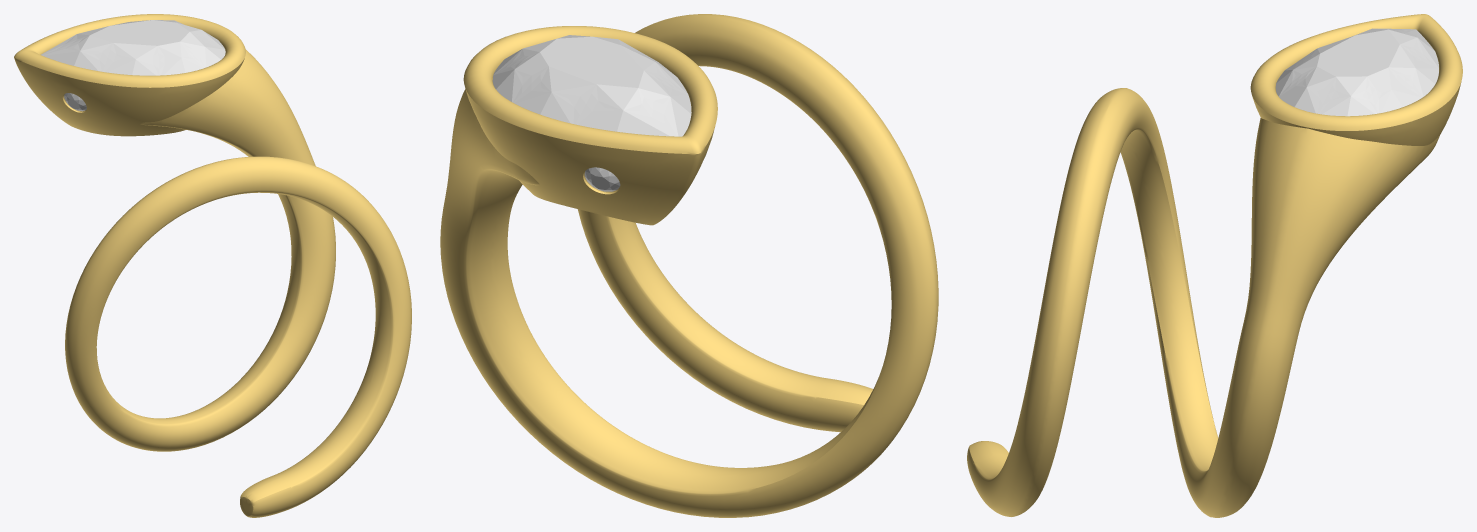
The model's file is OFHsnake.glb.
The picture shows the model from 3 angles, left to right: view 1: azimuth 30°, elevation 25°; view 2: azimuth 150°, elevation 25°; view 3: azimuth 270°, elevation 25°; orthographic projection. The views are drawn at different scales.
Visible parts, largest first — view 1: Oriel YG for 3d model, Oriel dia pear only for 3d model; view 2: Oriel YG for 3d model, Oriel dia pear only for 3d model, Oriel round dia for 3d model; view 3: Oriel YG for 3d model, Oriel dia pear only for 3d model.
Boxes of the visible parts, x1=… form: Oriel YG for 3d model: x1=14, y1=14, x2=411, y2=517; Oriel dia pear only for 3d model: x1=41, y1=20, x2=225, y2=75; Oriel YG for 3d model: x1=440, y1=14, x2=938, y2=517; Oriel dia pear only for 3d model: x1=492, y1=35, x2=691, y2=136; Oriel round dia for 3d model: x1=584, y1=167, x2=620, y2=191; Oriel YG for 3d model: x1=967, y1=14, x2=1462, y2=517; Oriel dia pear only for 3d model: x1=1275, y1=28, x2=1438, y2=116.
Size of the model in its own units: 19.4 by 22.16 by 22.18.
